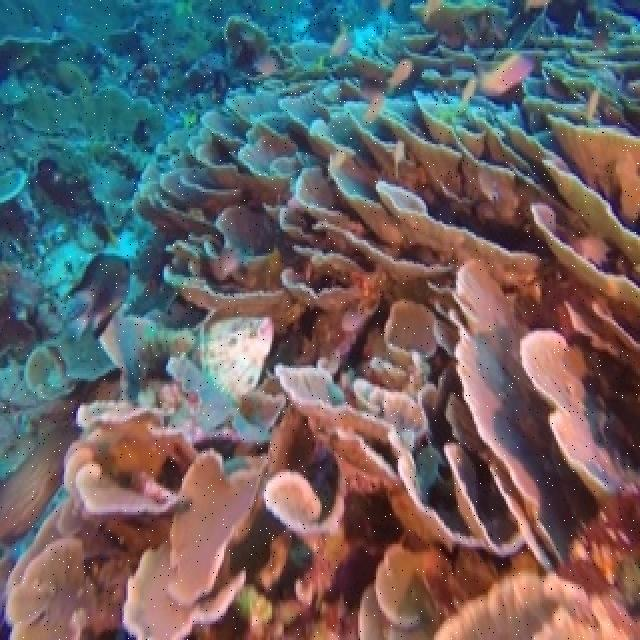reefs: (0, 3, 638, 637), (0, 17, 169, 205)
